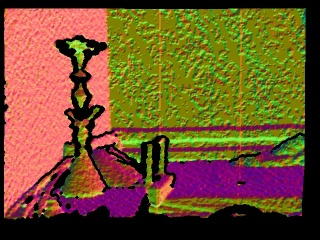station: (140, 135, 177, 207)
